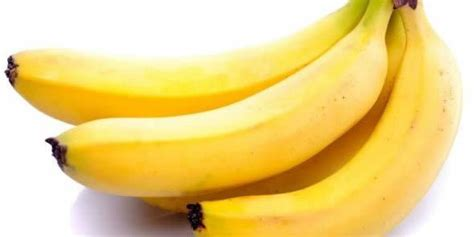banana: (48, 18, 390, 201), (186, 17, 462, 236), (3, 1, 368, 130)
